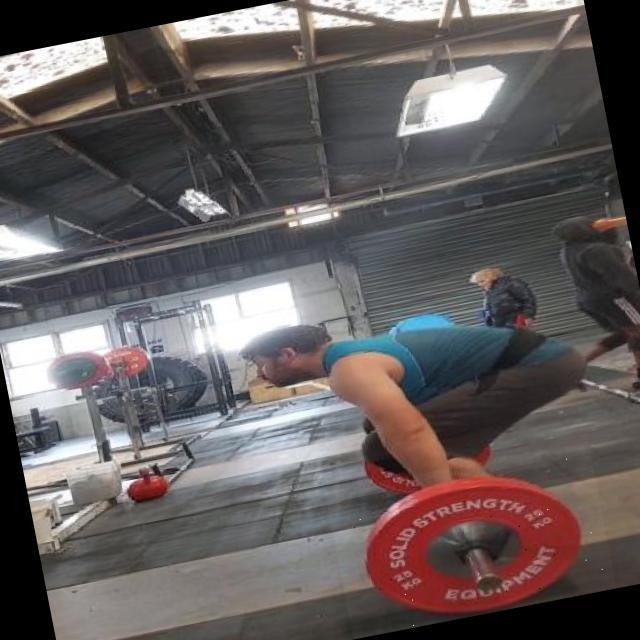barbell: (326, 443, 618, 640)
